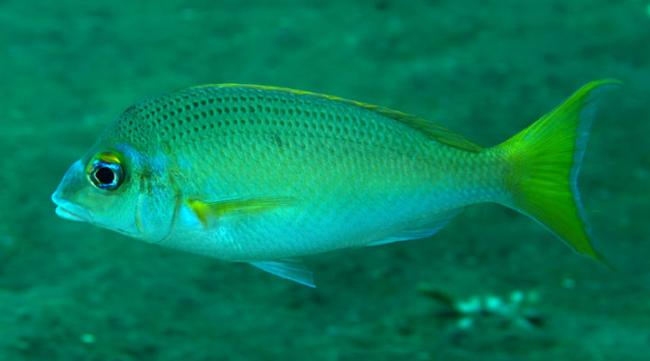fish: (49, 76, 625, 289)
